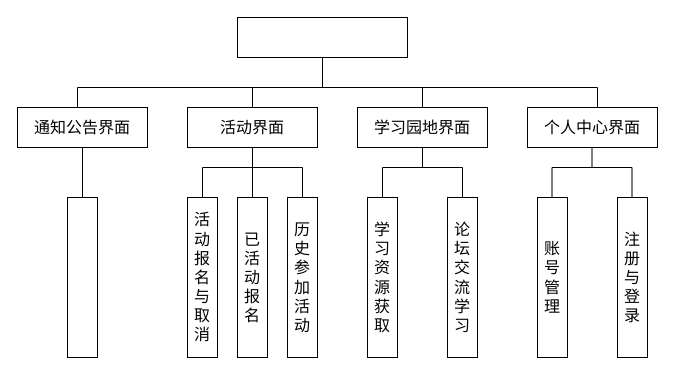
The diagram is 675 pixels wide and 375 high, and some of its shapes have lost their labels. Each missing label, with the centre of its shape:
"用户功能" belongs at [322,37].
"通知公告查看" belongs at [82,277].
